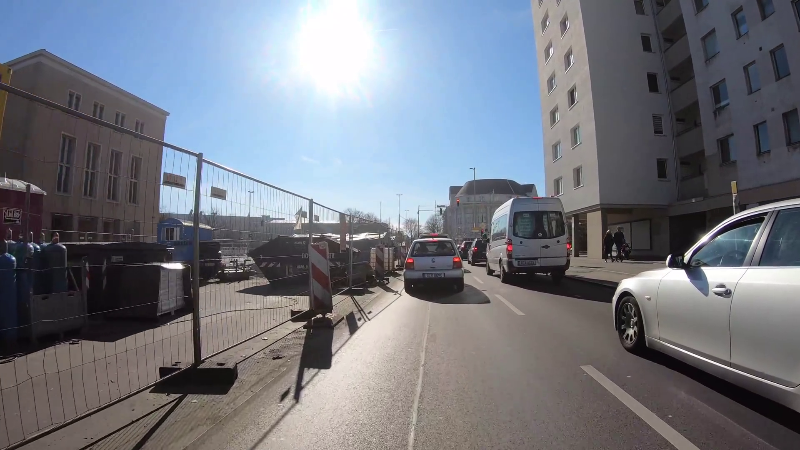Plate: (421, 272, 446, 279), (514, 258, 539, 265)
